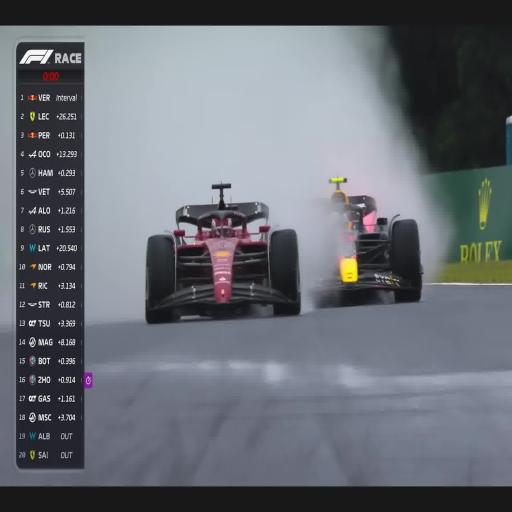f1_car: (145, 183, 301, 322), (311, 178, 423, 307), (359, 293, 364, 296)
